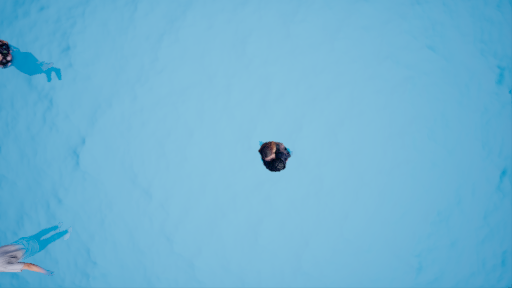person: (257, 137, 296, 175)
